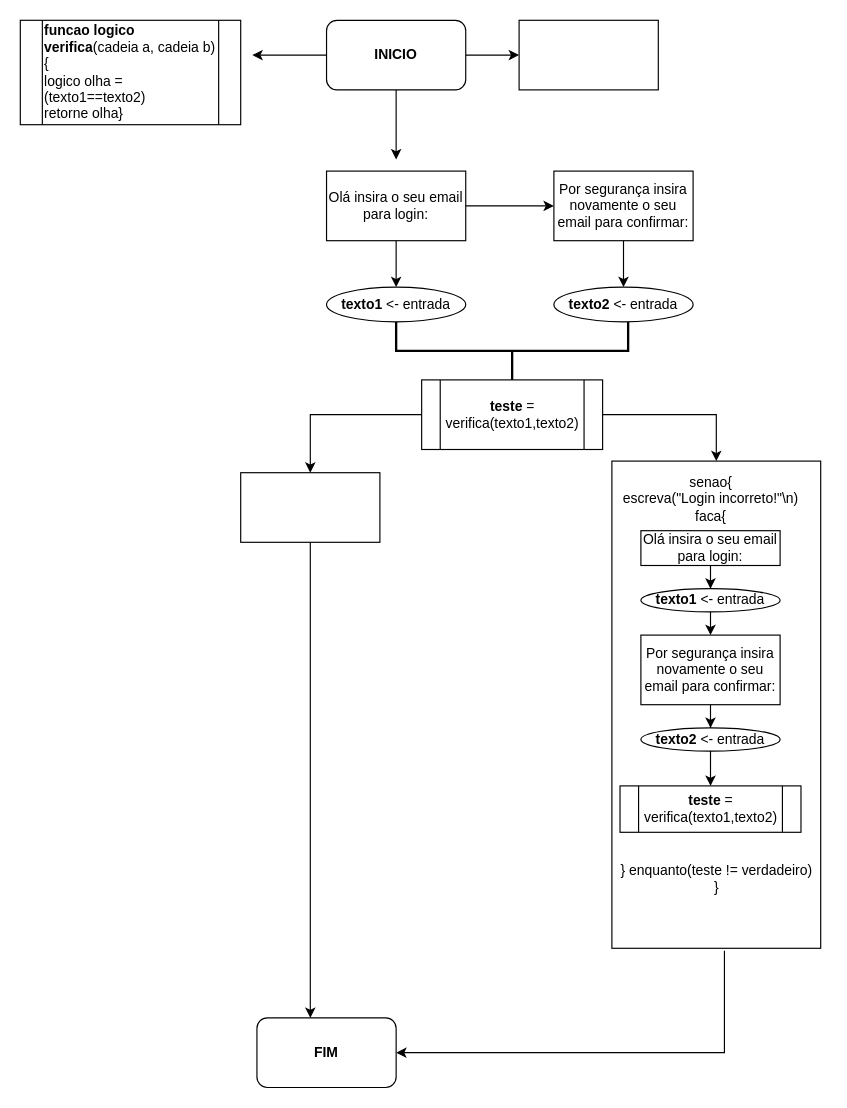
Some shapes in this 847 by 1108 pixel diagram are drawn without their labels. The centre of each missing label's shape, as x and y in pixels:
cadeia texto1 cadeia texto2 logico teste: (x=588, y=54)
se (teste==verdadeiro){ escreva("Login correto, pronto!\n") }: (x=310, y=507)
